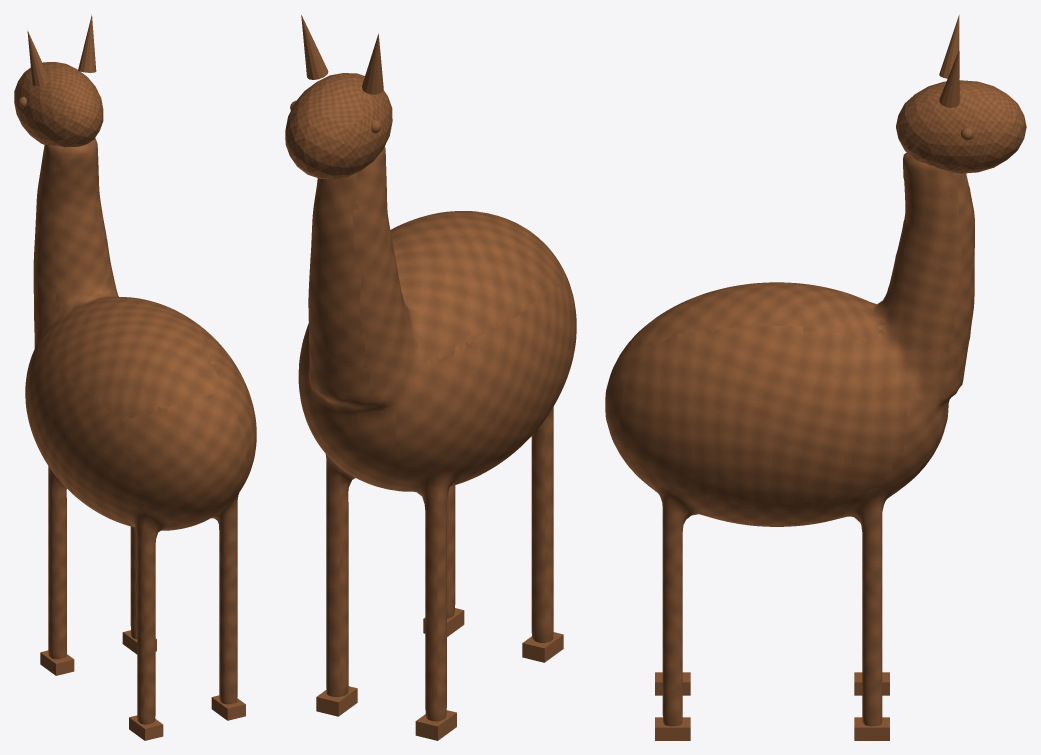
Rendered from llama_weld_review.glb.
3 renders of one model, left to right at view 1: azimuth 30°, elevation 25°; view 2: azimuth 150°, elevation 25°; view 3: azimuth 270°, elevation 25°, orthographic. The views are drawn at different scales.
Parts seen in each view (by area): view 1: welded_body_review, head, ear_1, leg_FL_foot, ear_-1, leg_HL_foot, leg_HR_foot; view 2: welded_body_review, head, leg_FL_foot, ear_1, leg_HL_foot, leg_FR_foot, ear_-1; view 3: welded_body_review, head, leg_FR_foot, leg_HR_foot, ear_1.
Boxes of the visible parts, <box> form: welded_body_review: <box>25,138,256,724</box>; head: <box>14,62,103,147</box>; ear_1: <box>78,15,96,72</box>; leg_FL_foot: <box>40,650,74,675</box>; ear_-1: <box>27,31,49,85</box>; leg_HL_foot: <box>129,715,163,740</box>; leg_HR_foot: <box>211,695,245,720</box>; welded_body_review: <box>298,146,576,721</box>; head: <box>285,73,392,179</box>; leg_FL_foot: <box>415,710,456,740</box>; ear_1: <box>301,15,328,79</box>; leg_HL_foot: <box>522,632,563,662</box>; leg_FR_foot: <box>316,686,357,716</box>; ear_-1: <box>362,33,383,94</box>; welded_body_review: <box>605,152,974,726</box>; head: <box>896,80,1026,173</box>; leg_FR_foot: <box>854,717,889,740</box>; leg_HR_foot: <box>655,717,690,740</box>; ear_1: <box>939,50,959,107</box>.
Bounding box in the file's own units: 0.7561 × 2.53 × 1.42.
1 material, 1 textured.
